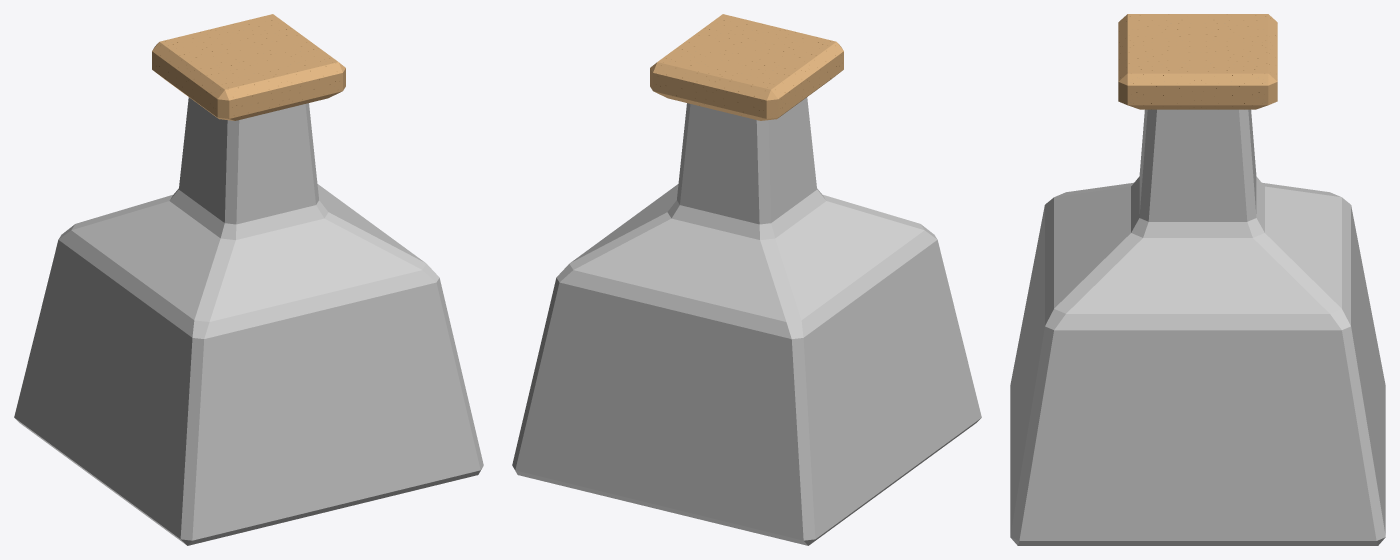
File: greenPotion.fbx
3 renders of one model, left to right at view 1: azimuth 30°, elevation 25°; view 2: azimuth 150°, elevation 25°; view 3: azimuth 270°, elevation 25°, orthographic. The views are drawn at different scales.
Visible parts, largest first — view 1: Cube; view 2: Cube; view 3: Cube.
Boxes of the visible parts, x1=… form: Cube: x1=14, y1=14, x2=483, y2=545; Cube: x1=512, y1=14, x2=981, y2=545; Cube: x1=1010, y1=14, x2=1385, y2=545.
Size of the model in its own units: 198 by 248 by 198.
